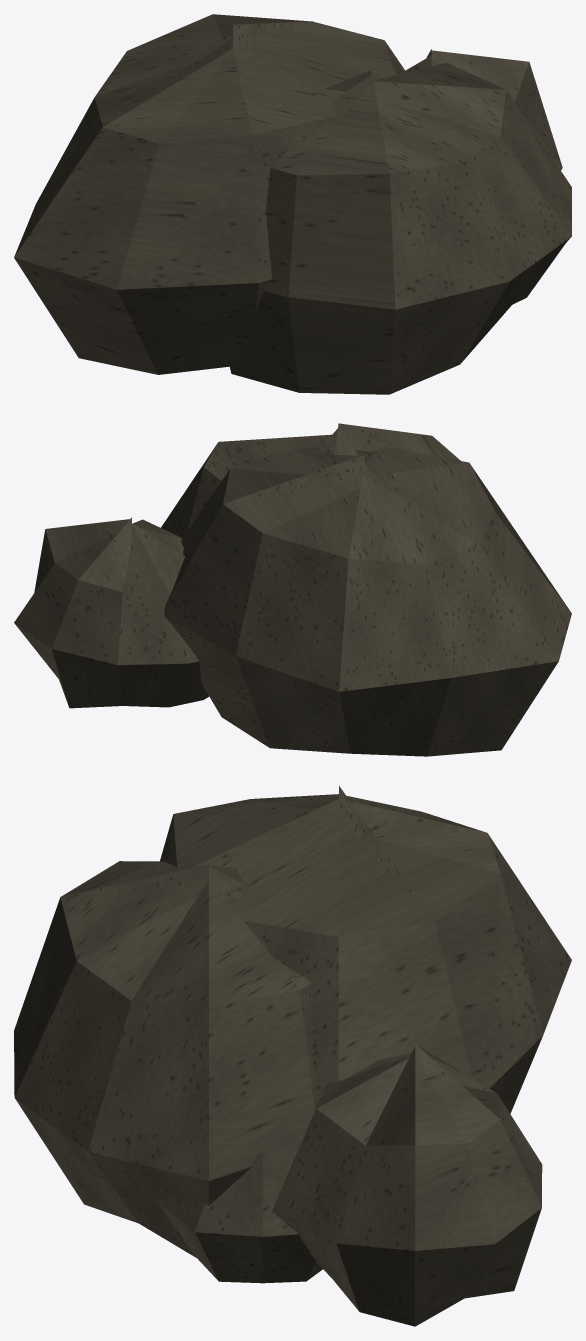
The model's file is PROP-844848DA7F11_lod1.glb.
3 views of the same model, one above another, from view 1: azimuth 30°, elevation 25°; view 2: azimuth 150°, elevation 25°; view 3: azimuth 270°, elevation 25° (orthographic). The views are drawn at different scales.
Visible parts, largest first — view 1: rock.007; view 2: rock.007; view 3: rock.007.
Boxes of the visible parts, left/top/right/bottom form: rock.007: left=14, top=14, right=571, bottom=394; rock.007: left=14, top=423, right=571, bottom=756; rock.007: left=14, top=786, right=571, bottom=1326.
Size of the model in its own units: 2.04 by 1.03 by 1.47.
1 material, 1 textured.
